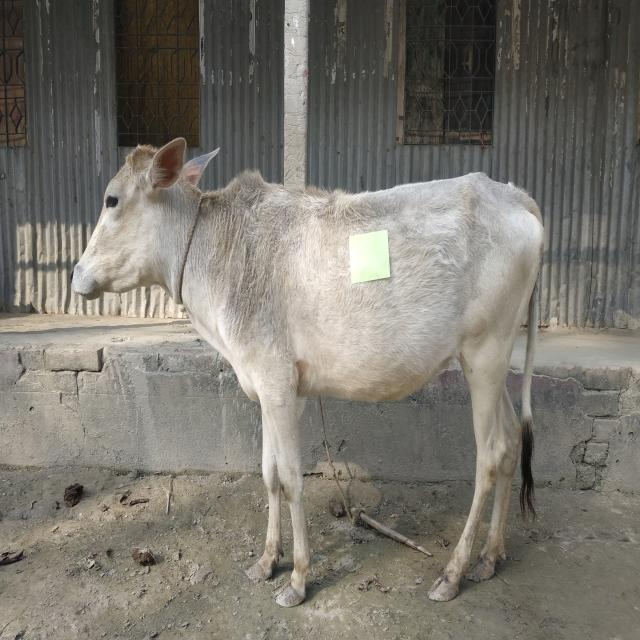badan_sapi: (241, 170, 535, 410)
sapi: (64, 128, 551, 612)
